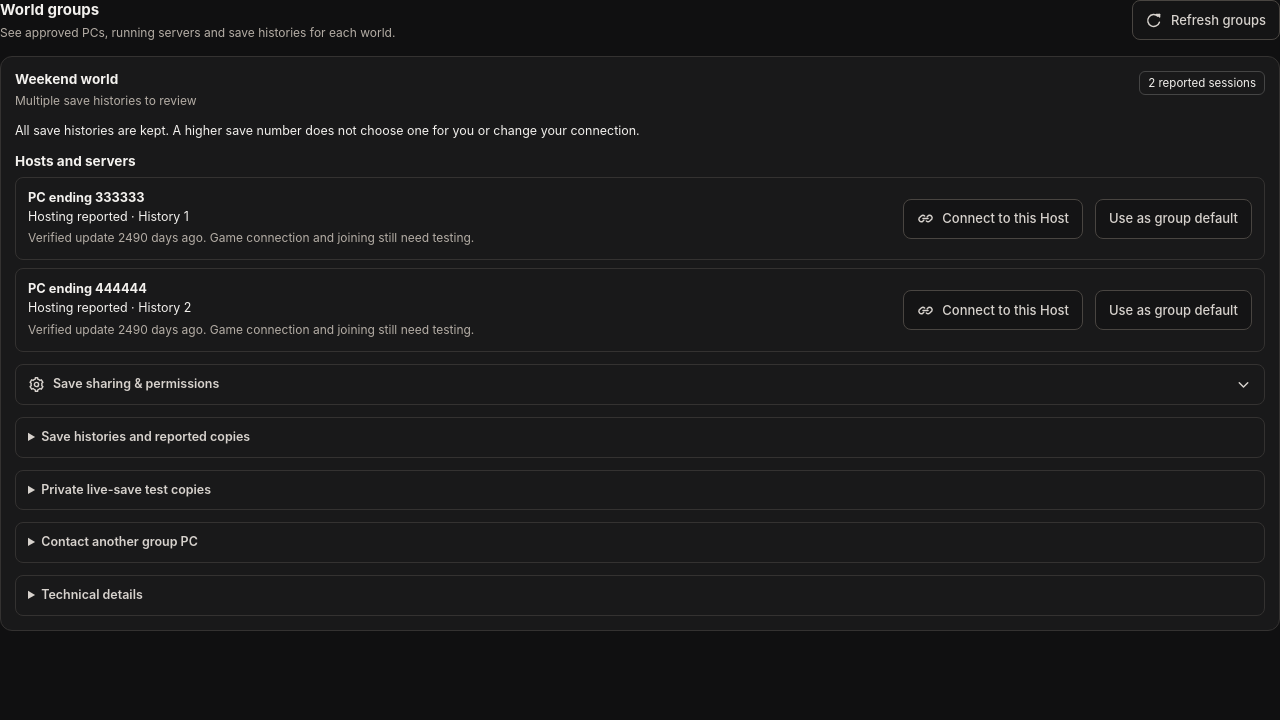
Test case: World groups › publishes a group default only after confirmation without changing the current connection
The width and height of the screenshot is (1280, 720).
What coordinates should you click on to do the following:
click the button "Use as group default" in the row of "· History 1"
I would click on:
 (1173, 219)
Its box is [1095, 199, 1252, 239].
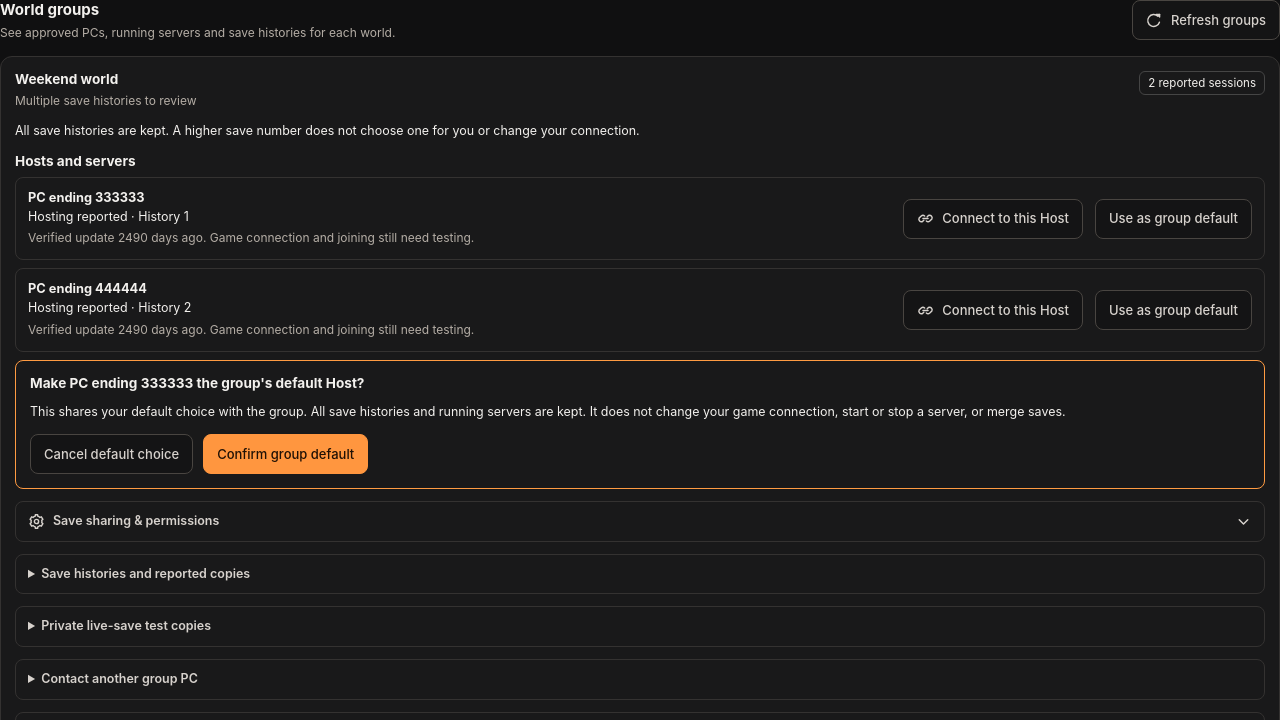
Expected: the element named "Review group default" shows "All save histories and running servers are kept. It does not change your game connection", [30, 404, 1066, 419]
What coordinates should you click on to do the following:
click the button "Confirm group default"
I would click on:
 (286, 454)
Its box is [203, 434, 368, 474].
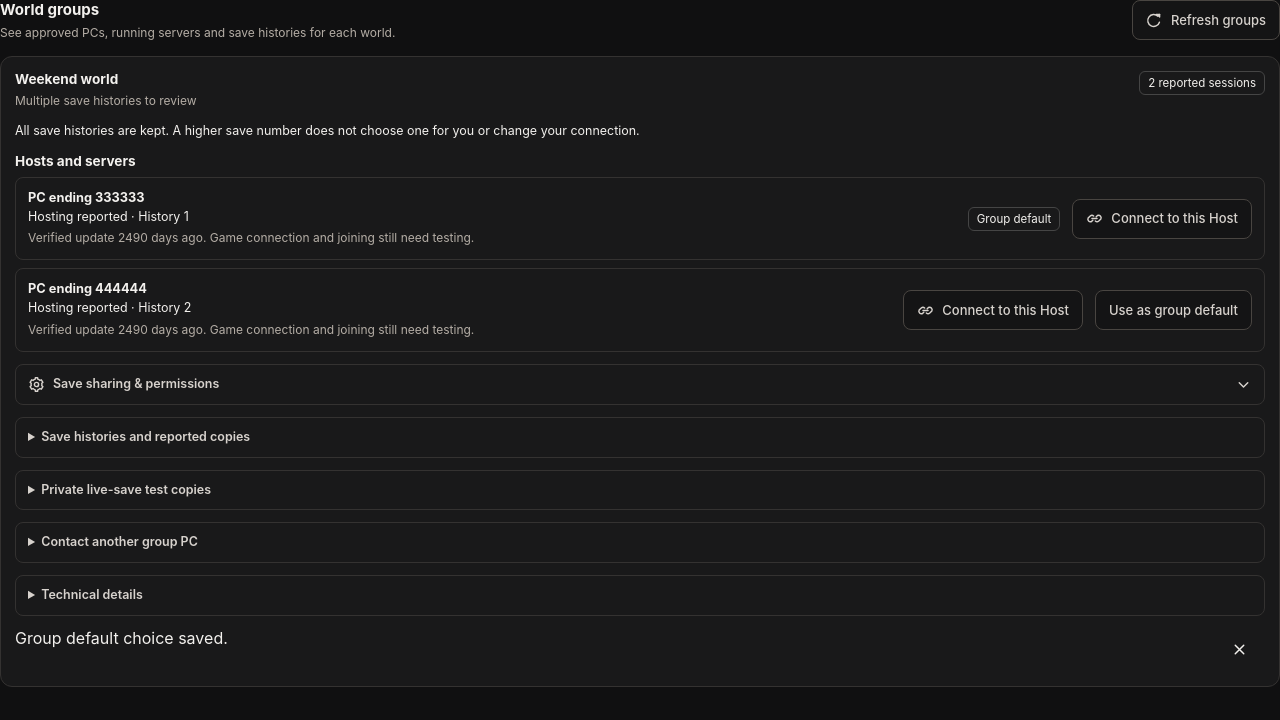
Expected: the text "Group default" is shown, [968, 207, 1060, 231]
Expected: the number of buttons "Connect to this Host" is 2, [1072, 199, 1252, 239]; [903, 290, 1083, 330]
